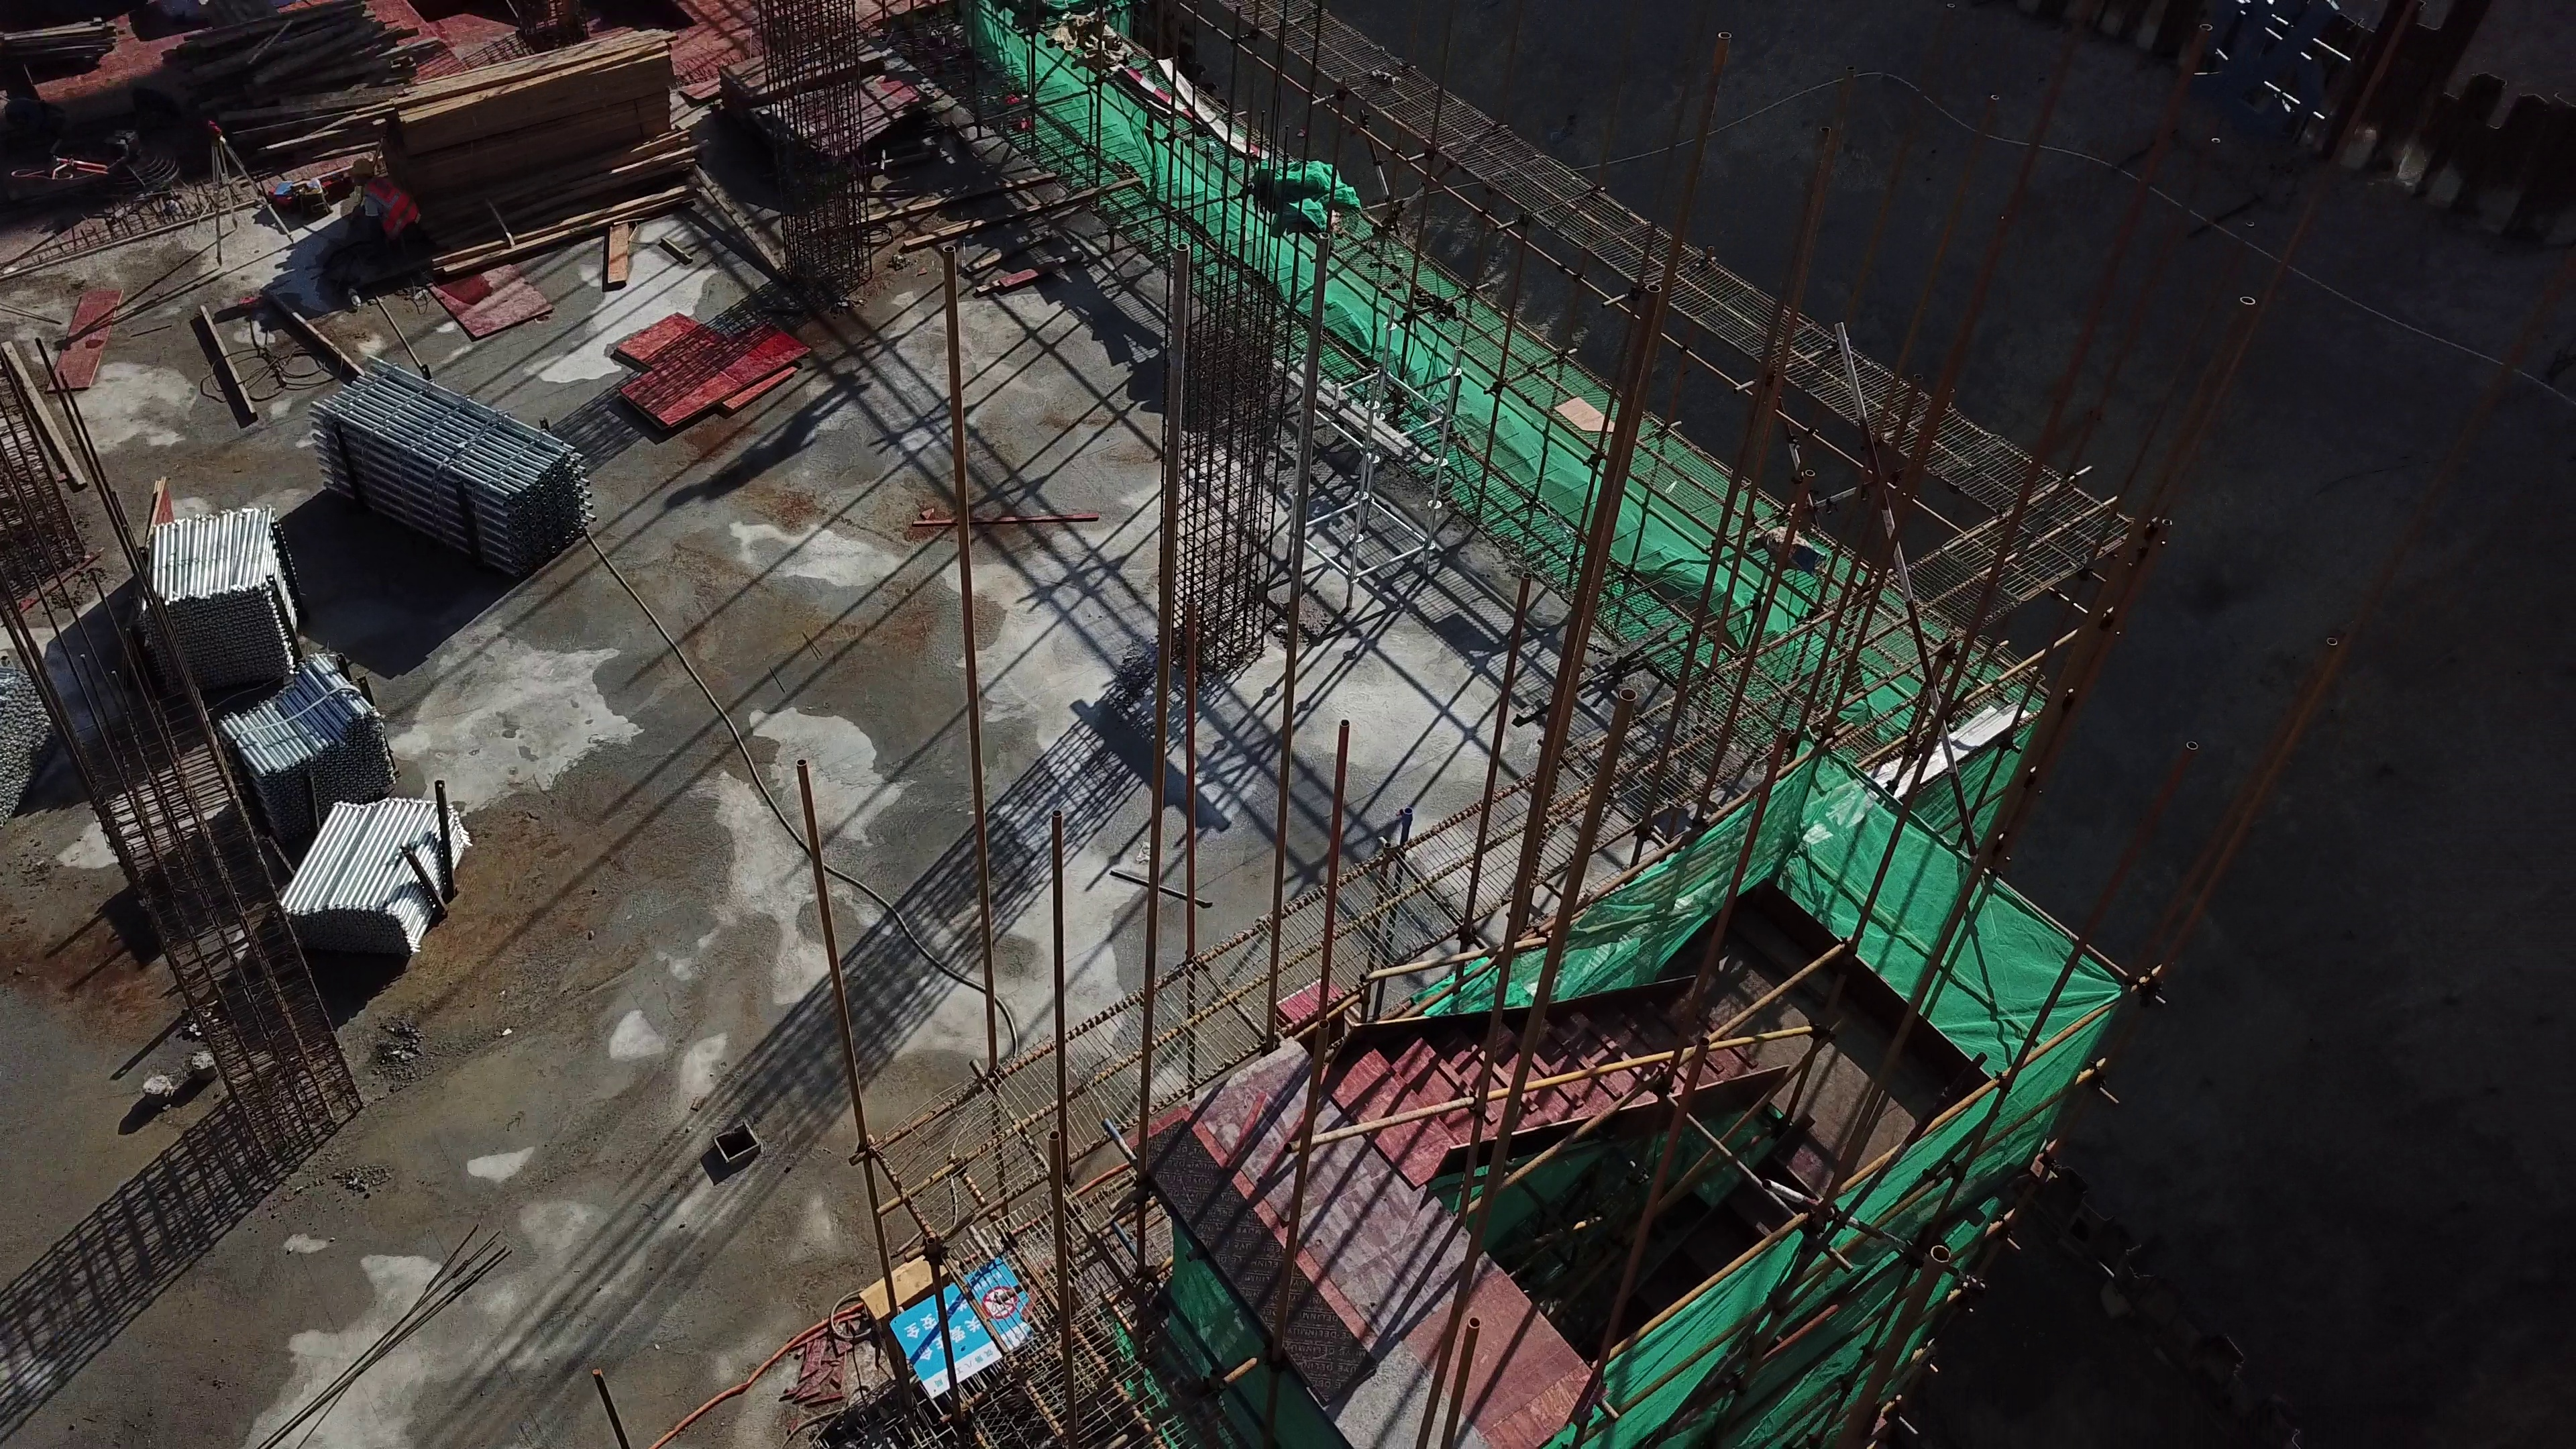board: (605, 308, 819, 441)
scaffold: (303, 347, 594, 568), (274, 787, 474, 962), (209, 649, 409, 816), (133, 502, 306, 686)
wood: (354, 28, 697, 249)
